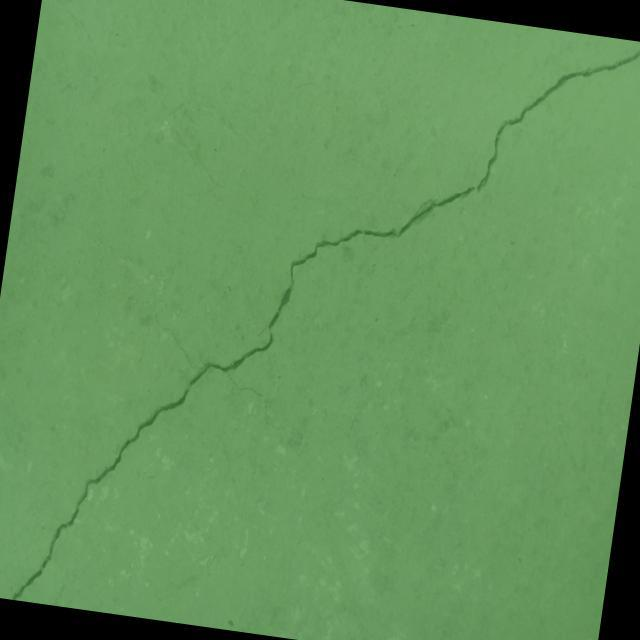crack: (11, 0, 640, 640), (120, 280, 153, 306)
